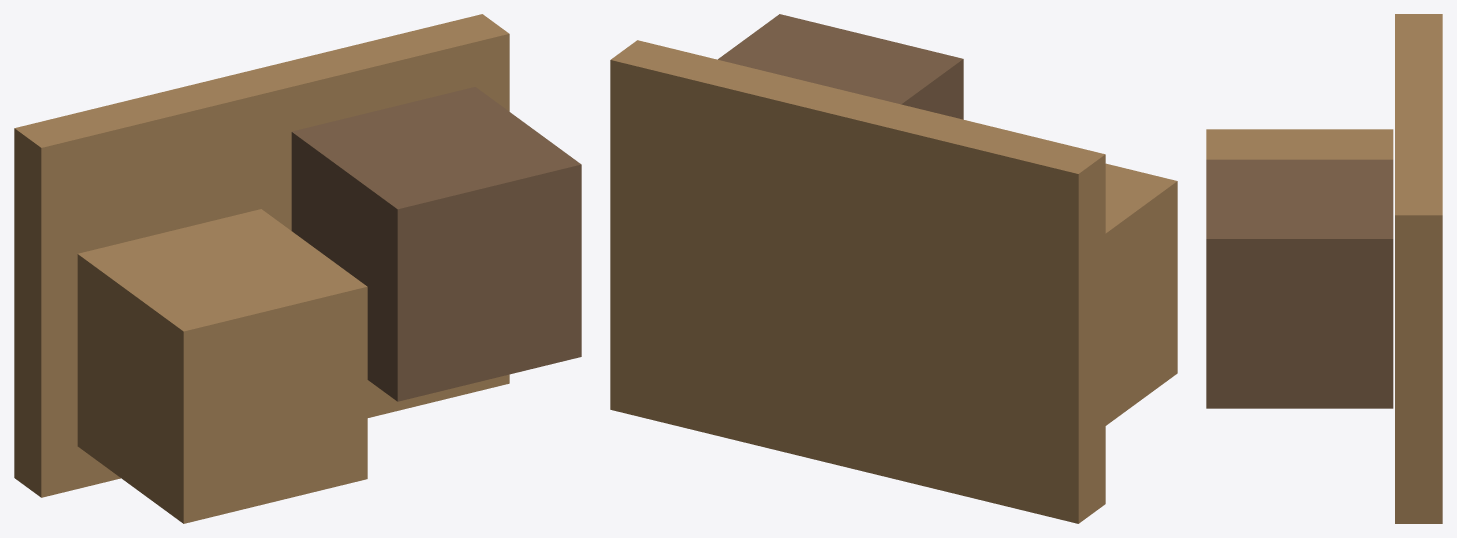
The model's file is city_crate_pallet.glb.
3 renders of one model, left to right at view 1: azimuth 30°, elevation 25°; view 2: azimuth 150°, elevation 25°; view 3: azimuth 270°, elevation 25°, orthographic. The views are drawn at different scales.
Visible parts, largest first — view 1: crate_a, pallet, crate_b; view 2: pallet, crate_a, crate_b; view 3: crate_b, pallet, crate_a.
Boxes of the visible parts, bbox=[...] form: crate_a: bbox=[77, 209, 367, 523]; pallet: bbox=[14, 14, 509, 497]; crate_b: bbox=[291, 87, 581, 401]; pallet: bbox=[610, 40, 1105, 523]; crate_a: bbox=[1105, 163, 1177, 425]; crate_b: bbox=[718, 14, 963, 119]; crate_b: bbox=[1206, 159, 1393, 408]; pallet: bbox=[1395, 14, 1442, 523]; crate_a: bbox=[1206, 129, 1393, 159].
Bounding box in the file's own units: 1.4 × 1 × 0.695.
